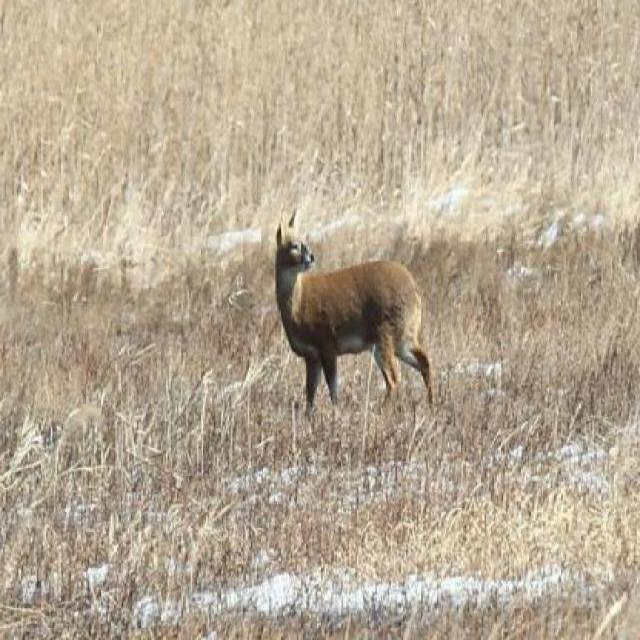deer: (272, 209, 446, 408)
